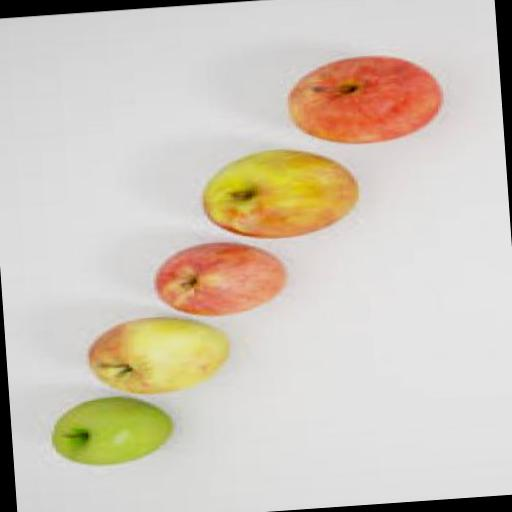biodegradable: (278, 46, 443, 148), (196, 141, 362, 240), (84, 310, 232, 396), (148, 235, 288, 318), (42, 390, 172, 468)
